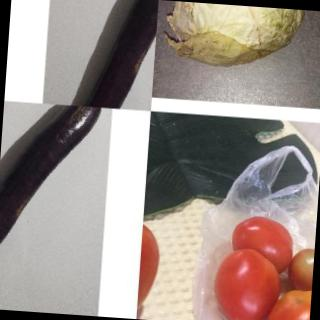Tomat: (211, 210, 316, 320)
